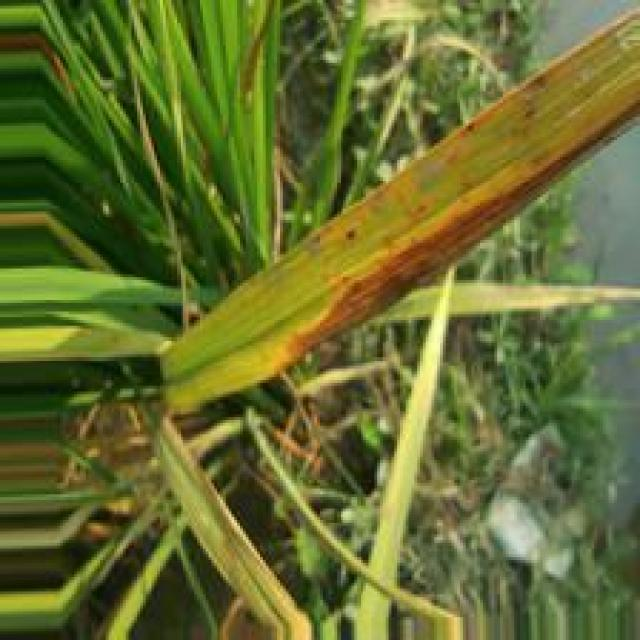Bacterial_Leaf_Blight: (275, 90, 640, 377)
